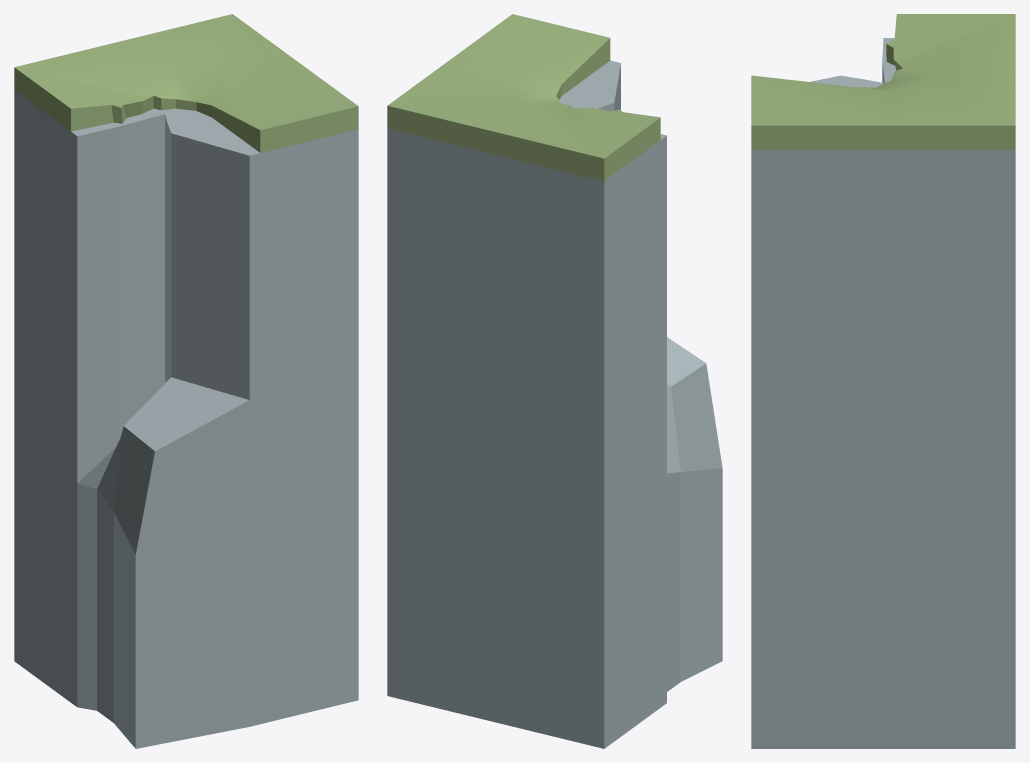
The model's file is Dual_Grid_L_L_L_W_01.fbx.
3 renders of one model, left to right at view 1: azimuth 30°, elevation 25°; view 2: azimuth 150°, elevation 25°; view 3: azimuth 270°, elevation 25°, orthographic. The views are drawn at different scales.
Parts seen in each view (by area): view 1: Tile_L_L_L_W_01; view 2: Tile_L_L_L_W_01; view 3: Tile_L_L_L_W_01.
Boxes of the visible parts, bbox=[...] form: Tile_L_L_L_W_01: bbox=[14, 14, 358, 748]; Tile_L_L_L_W_01: bbox=[387, 14, 722, 748]; Tile_L_L_L_W_01: bbox=[751, 14, 1015, 748].
Size of the model in its own units: 100 by 100 by 260.
